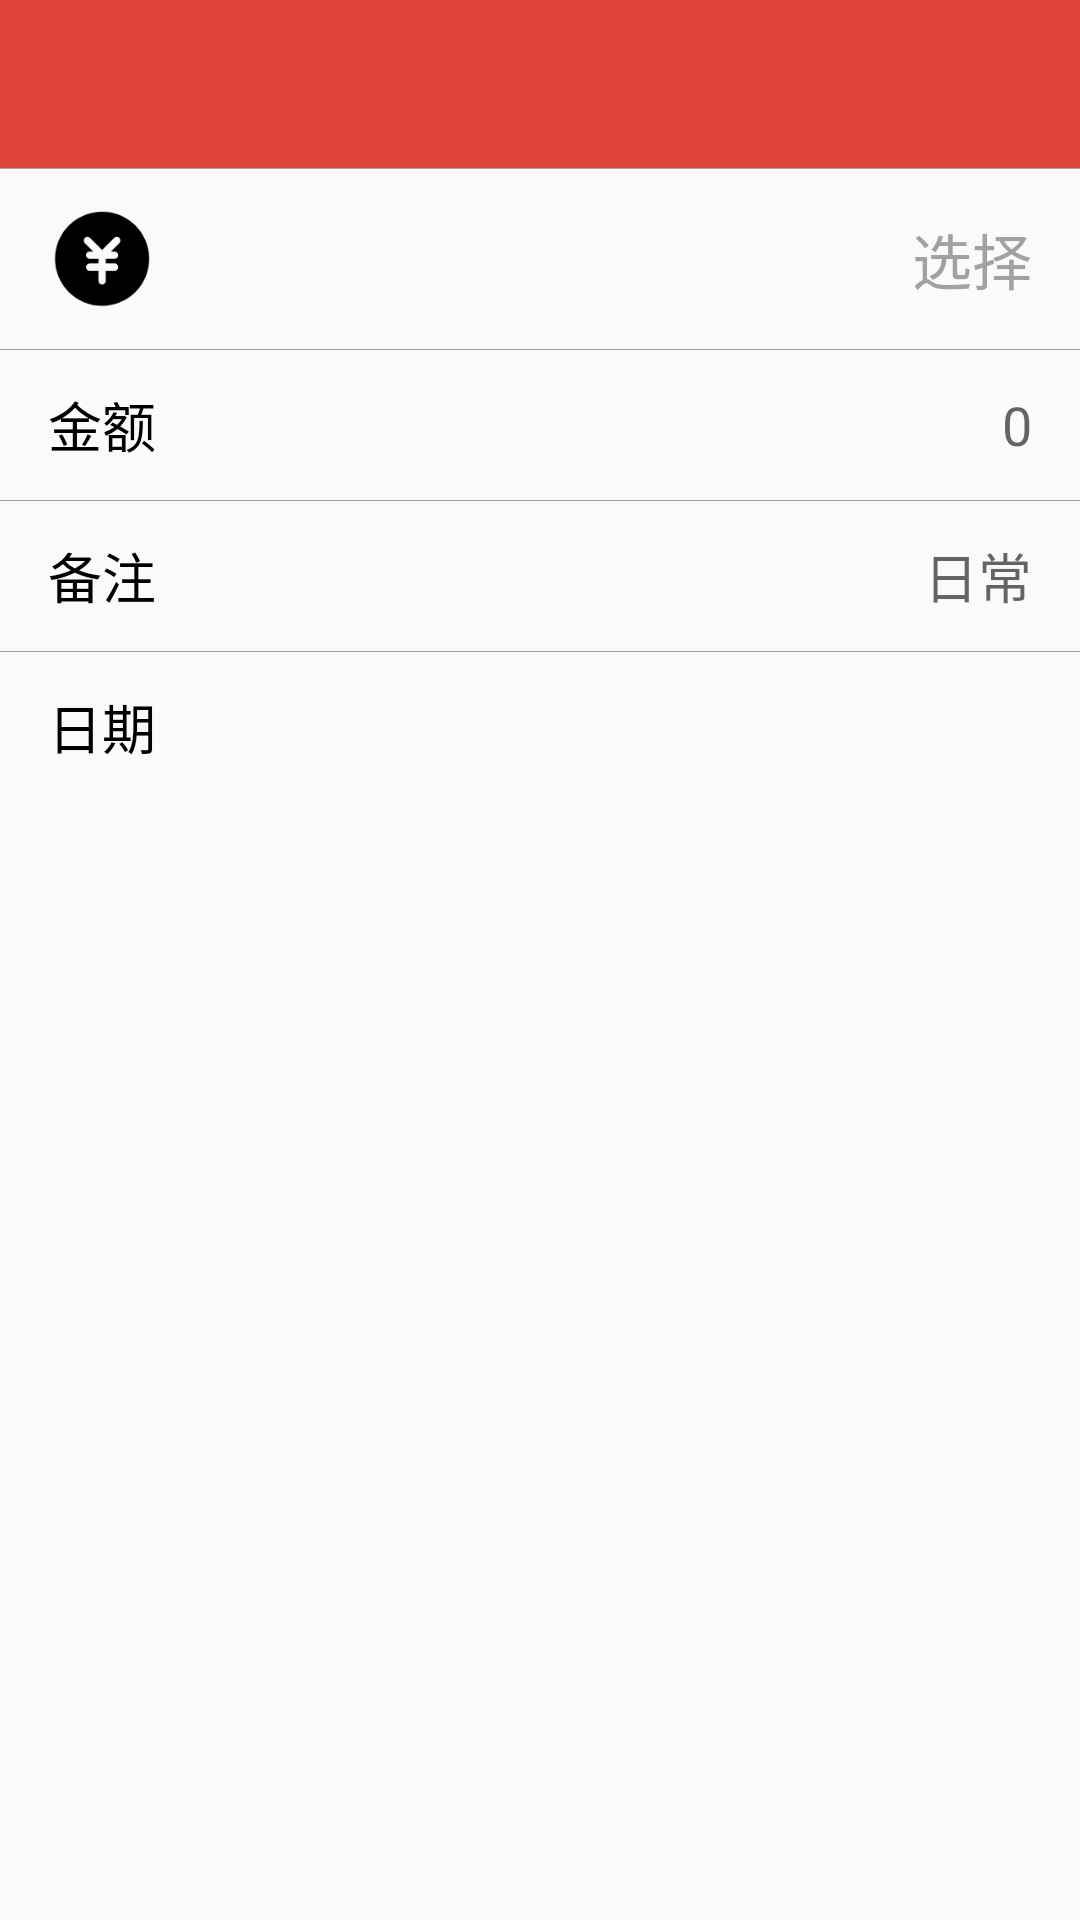

Point at icon controls on the screen. Image size 1080 × 1920, points as [x,y].
money: [102,259]
